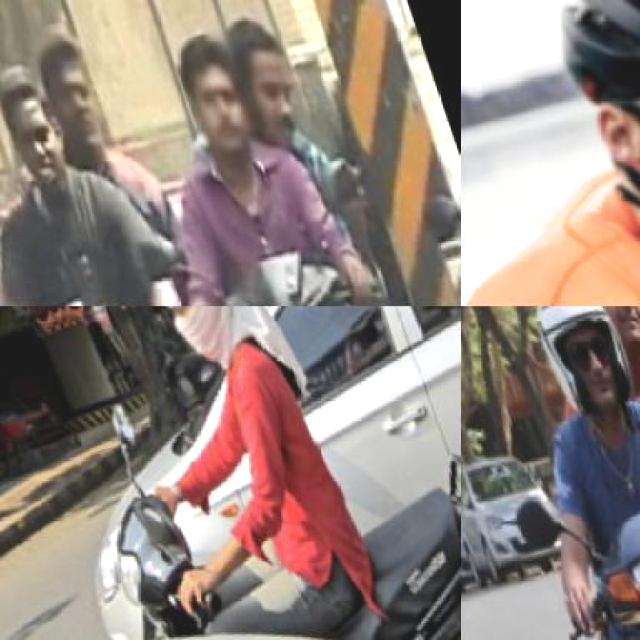With Helmet: (524, 0, 638, 305), (511, 306, 638, 440), (138, 306, 268, 374)
Without Helmet: (212, 1, 316, 158), (23, 18, 117, 170), (167, 29, 264, 173), (0, 57, 82, 198), (551, 306, 638, 360)
